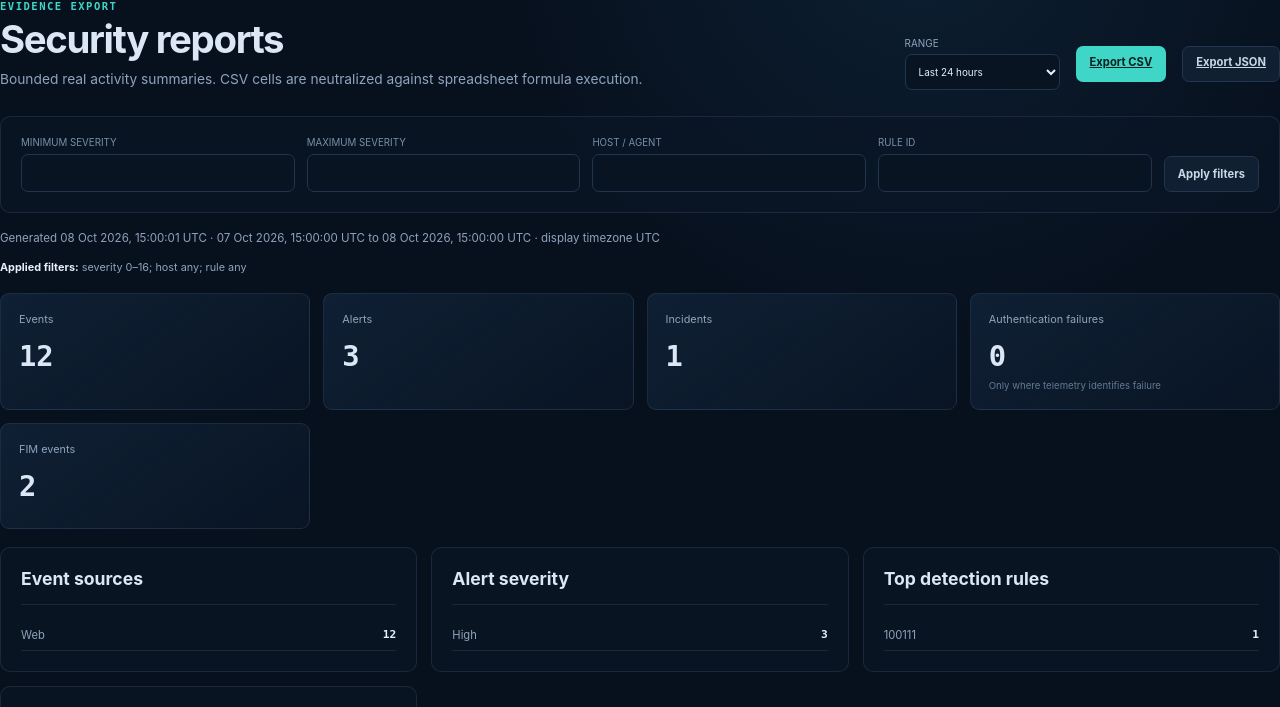
SIEM experience pages › rejects an invalid custom report range before another backend query
Expected: the text "Applied filters:" is shown, [0,260,79,274]
Select "Custom range" in the dropdown labelled "Range" at (982, 72), box [905,54,1060,90]
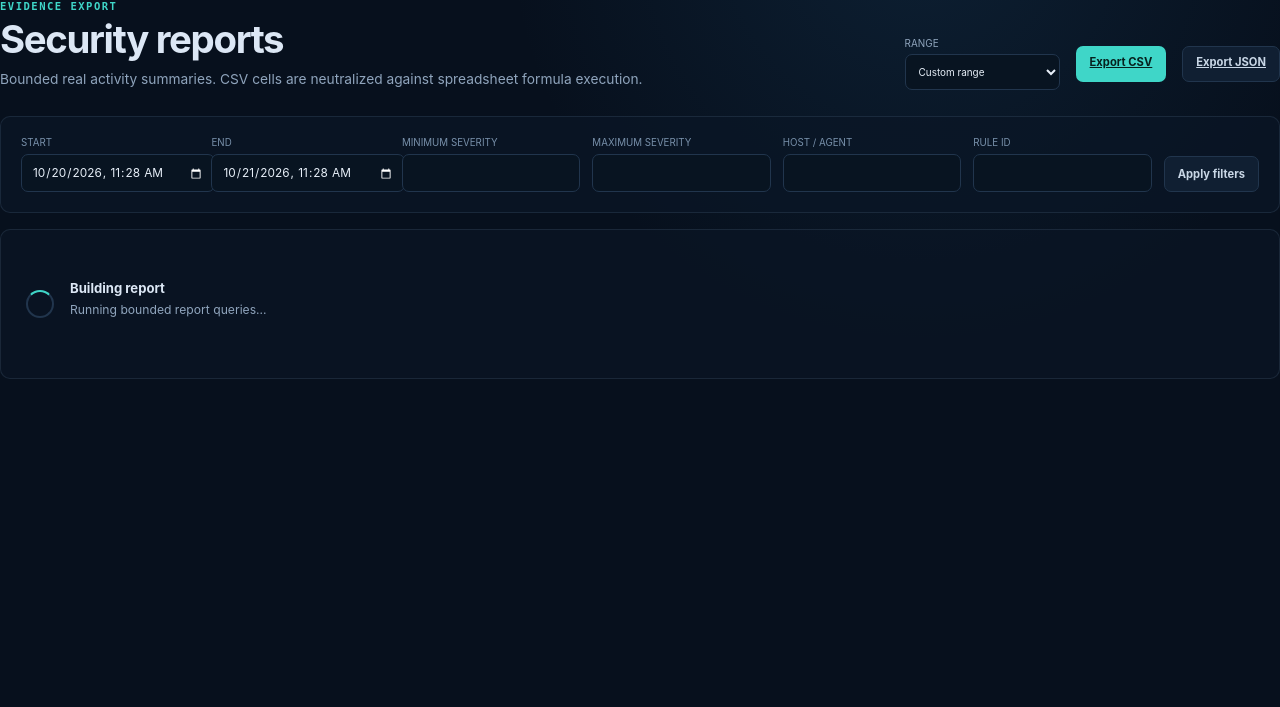
Clear the field labelled "Start" at (118, 174), box [21,154,215,192]
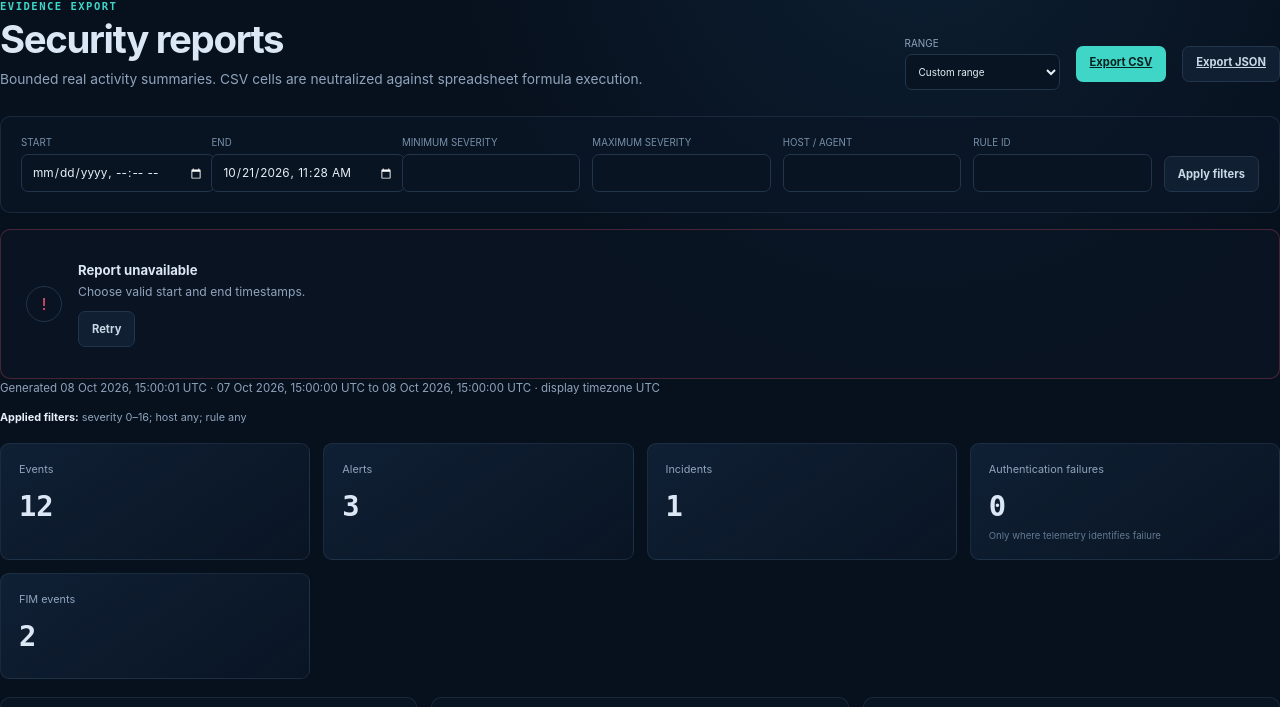
Result: the text "Choose valid start and end timestamps." is shown at [78,282,305,301]
